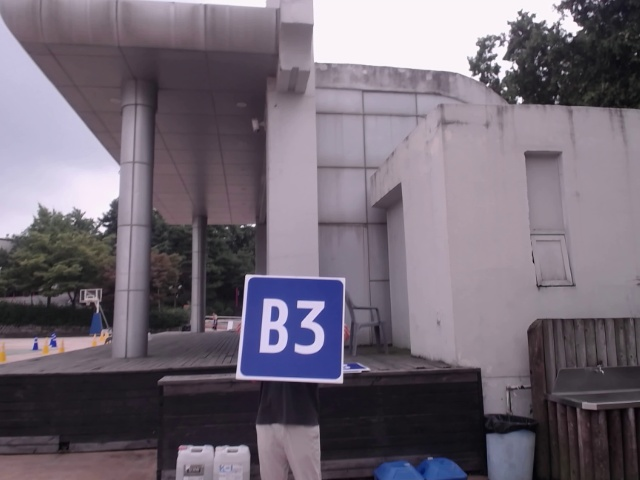delivery_b3: (243, 276, 343, 380)
